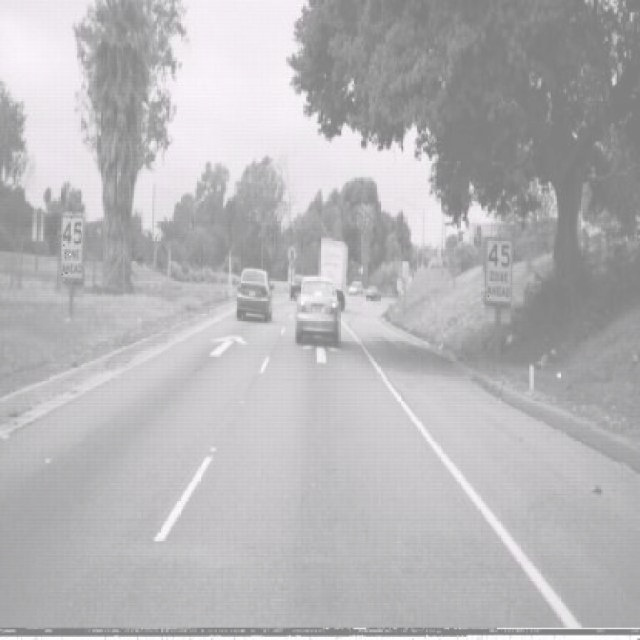zoneAhead45: (484, 235, 512, 305), (60, 212, 85, 280)
